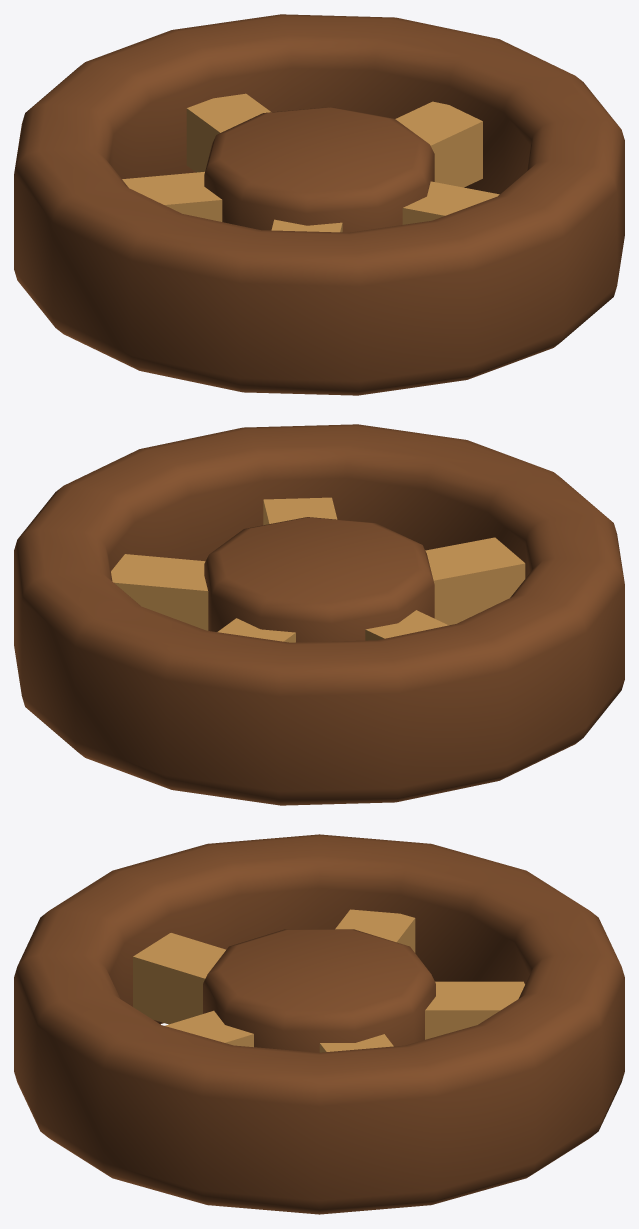
File: Wheel.fbx
The picture shows the model from 3 angles, top to bottom: view 1: azimuth 30°, elevation 25°; view 2: azimuth 150°, elevation 25°; view 3: azimuth 270°, elevation 25°; orthographic projection.
Visible parts, largest first — view 1: Wheel; view 2: Wheel; view 3: Wheel.
Part boxes in pixels (bbox=[...]): Wheel: bbox=[14, 14, 624, 395]; Wheel: bbox=[14, 424, 624, 805]; Wheel: bbox=[14, 834, 624, 1214].
Bounding box in the file's own units: 2 × 0.5 × 2.
